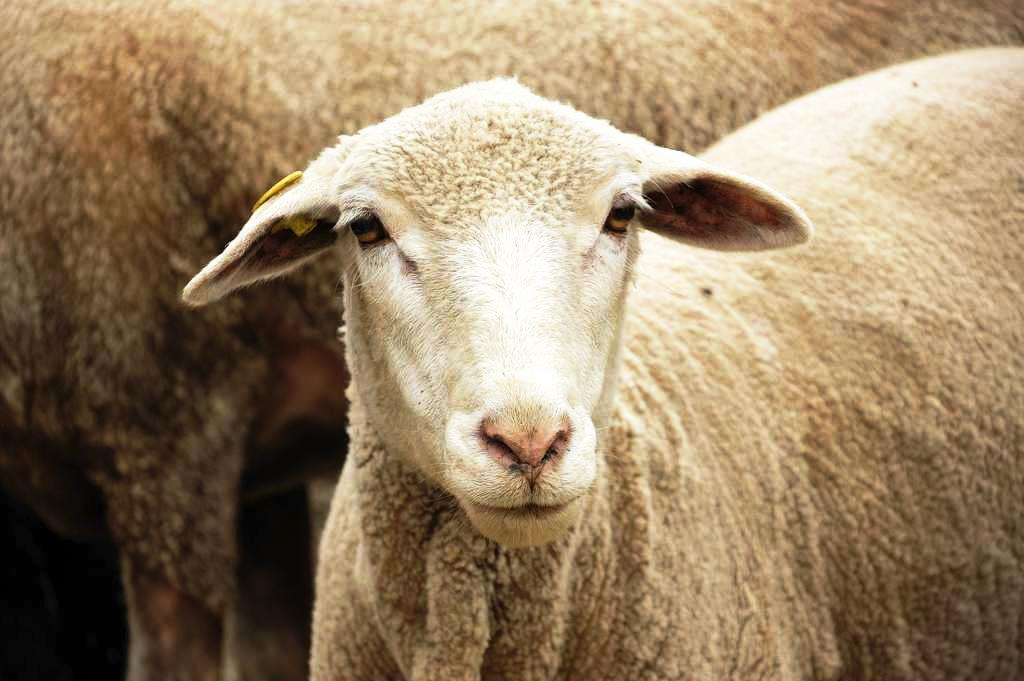Sheep: (182, 45, 1024, 681)
